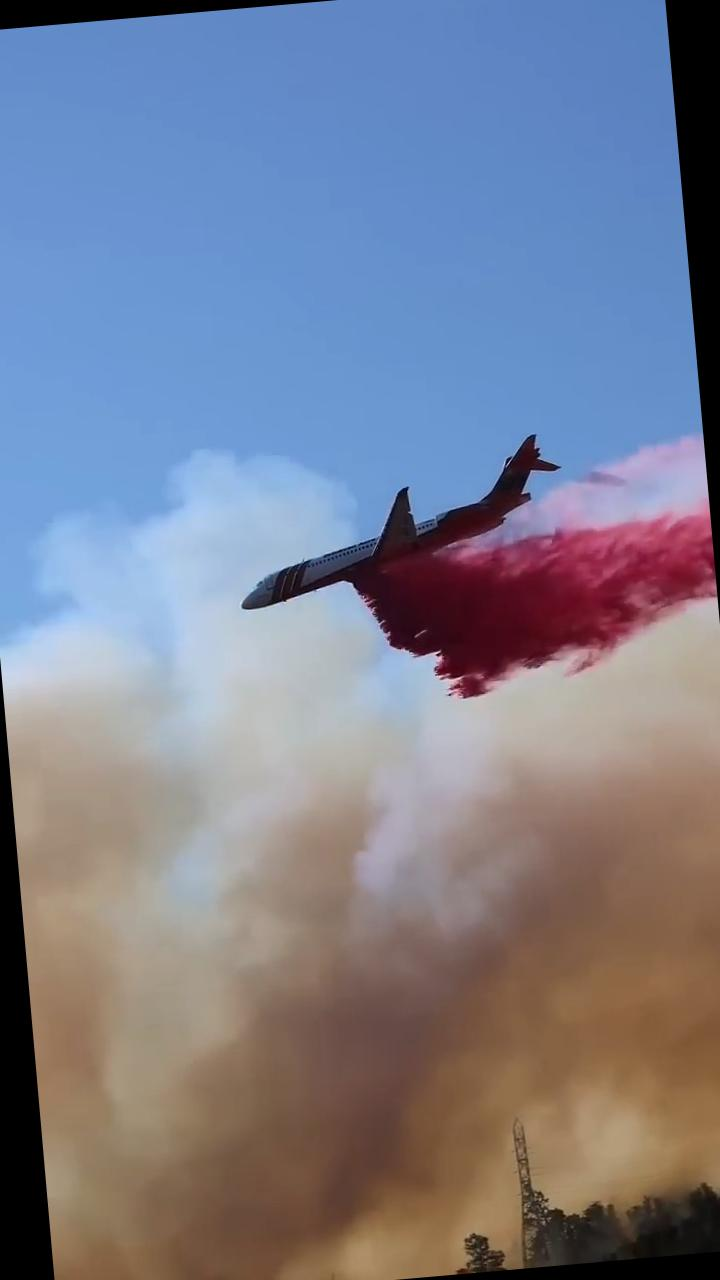Smoke: (5, 656, 720, 1280)
